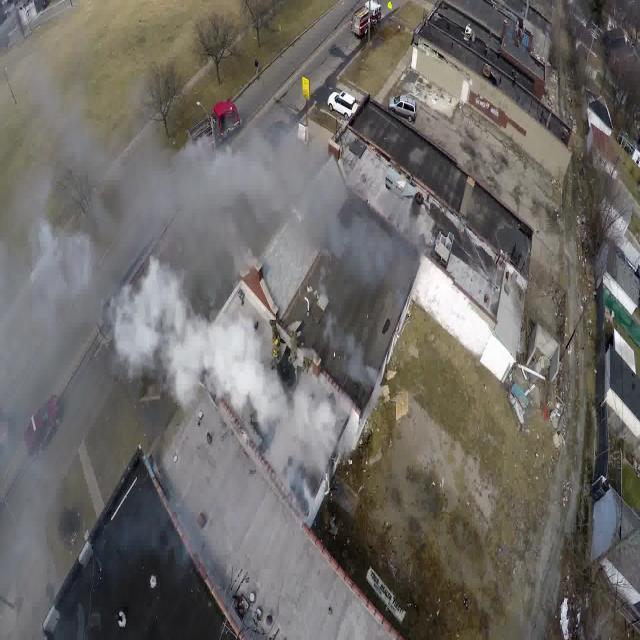Smoke: (134, 249, 332, 464)
